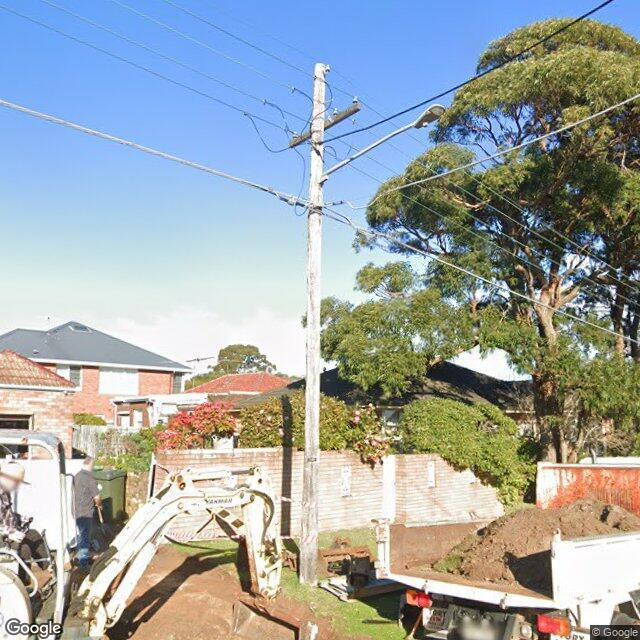crossarm: (287, 104, 363, 150)
streetlight: (318, 104, 447, 184)
timber-pole: (299, 63, 327, 587)
